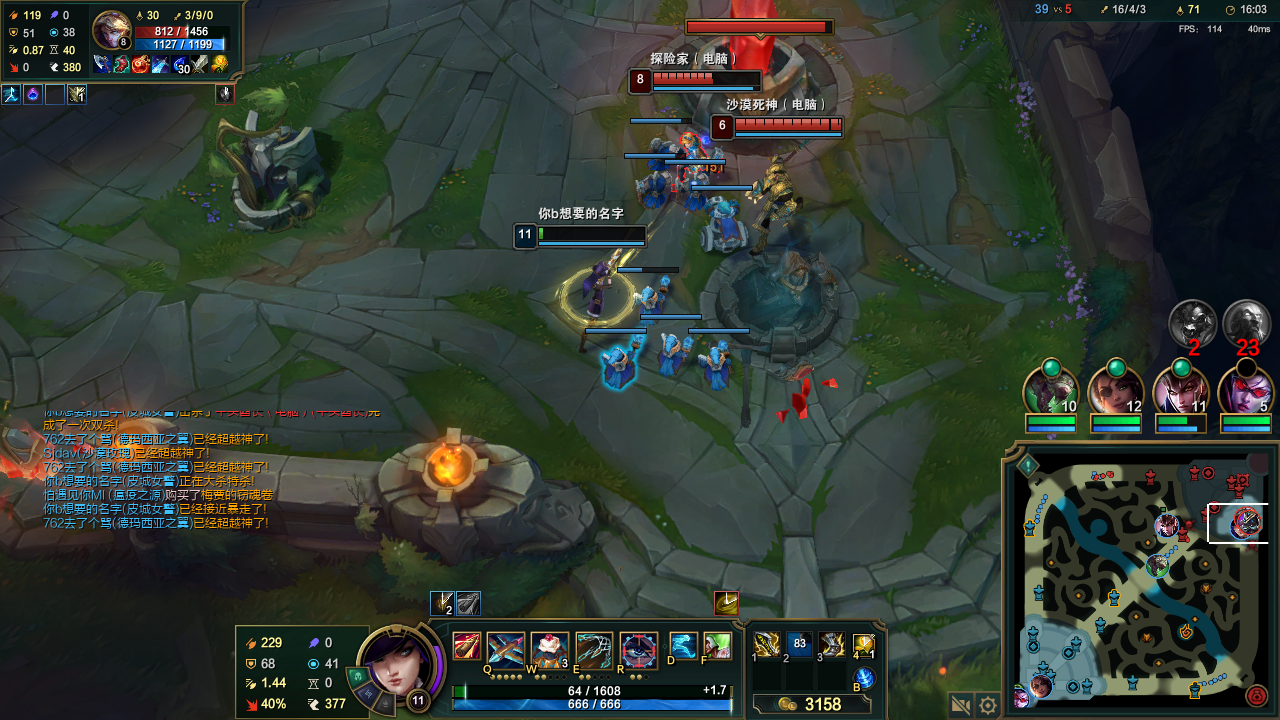DFSJ: (676, 7, 837, 133)
DFYX: (732, 119, 840, 135), (648, 74, 744, 87)
WFXB: (692, 200, 744, 252), (596, 348, 638, 385), (653, 331, 685, 377), (696, 346, 730, 389), (633, 174, 671, 207), (673, 177, 712, 208), (646, 134, 677, 169), (635, 287, 662, 317)
